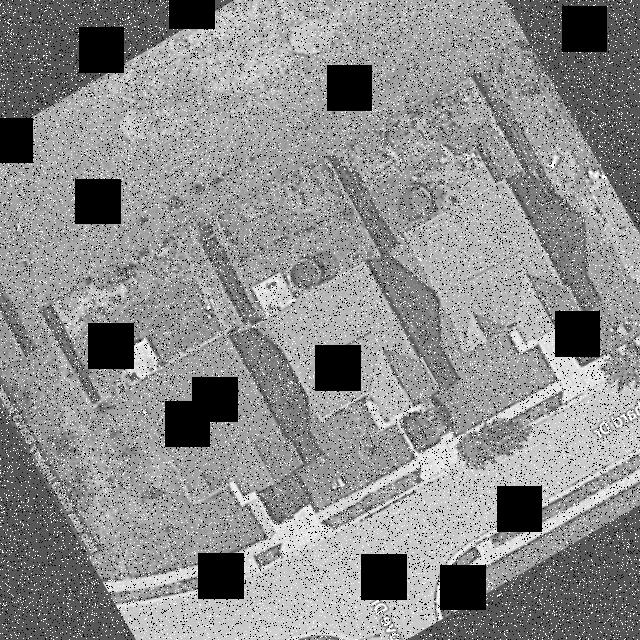Driveway: (392, 396, 451, 449)
Extra Driveway: (413, 431, 469, 485)
Extra Lawn: (339, 466, 420, 524), (330, 453, 416, 504)
Extra Sidewalk: (334, 460, 419, 511), (453, 430, 473, 447)
House: (267, 264, 438, 419)
Other: (251, 272, 295, 317), (451, 424, 469, 438)
Sidewalk: (360, 394, 396, 432)
